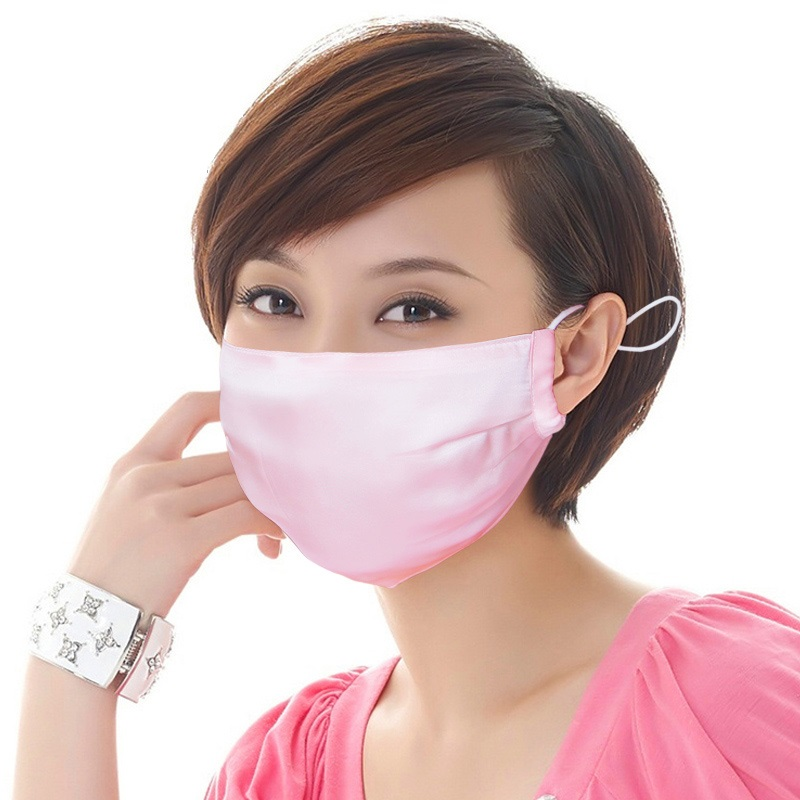face_mask: (224, 148, 541, 547)
